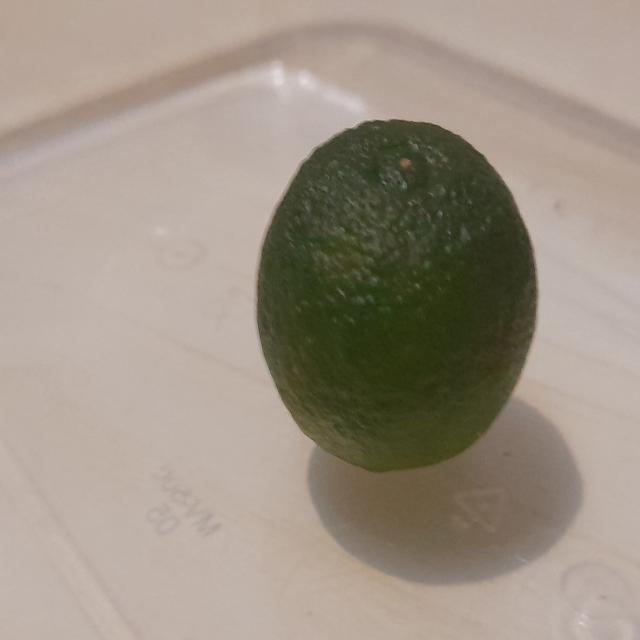heathy: (254, 109, 547, 481)
